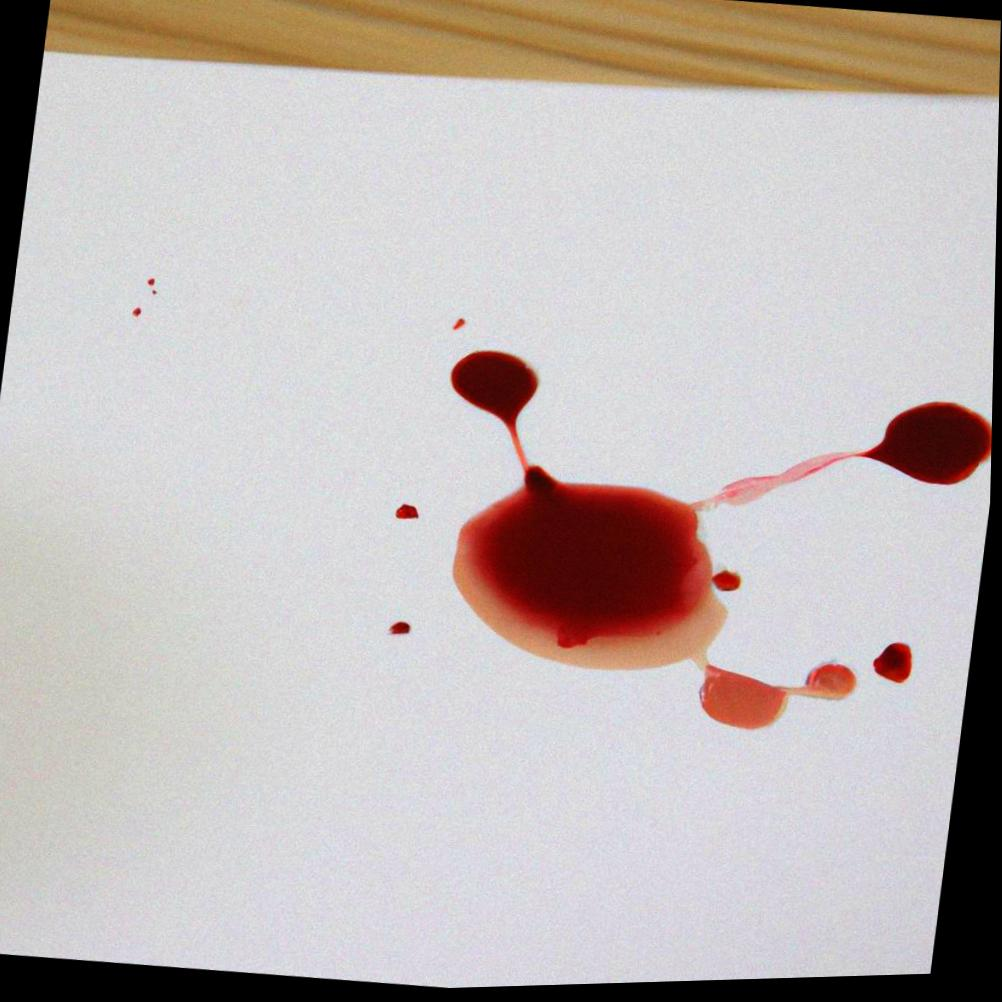Fire: (452, 353, 994, 734), (875, 647, 915, 688), (398, 506, 421, 522), (392, 623, 413, 636)
